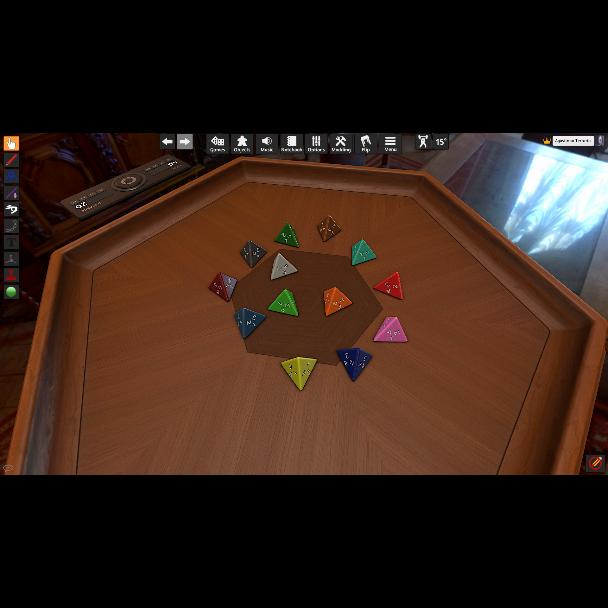d4: (280, 356, 316, 390), (336, 348, 370, 382), (236, 308, 266, 340), (268, 290, 300, 318), (320, 288, 348, 318), (270, 252, 298, 282), (374, 272, 403, 300), (240, 240, 266, 270), (210, 272, 236, 302), (374, 318, 406, 342), (350, 240, 376, 266), (318, 215, 340, 242), (276, 222, 298, 248)
